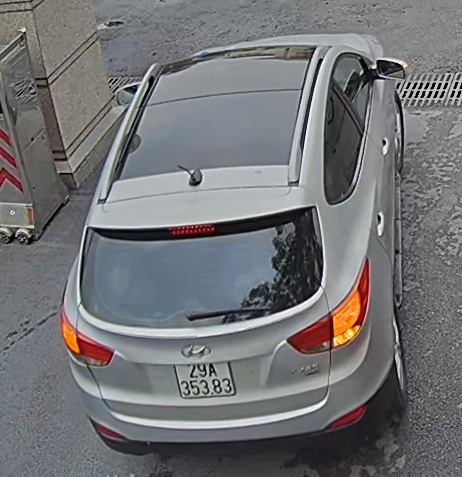vehicle plate: (167, 357, 246, 403)
